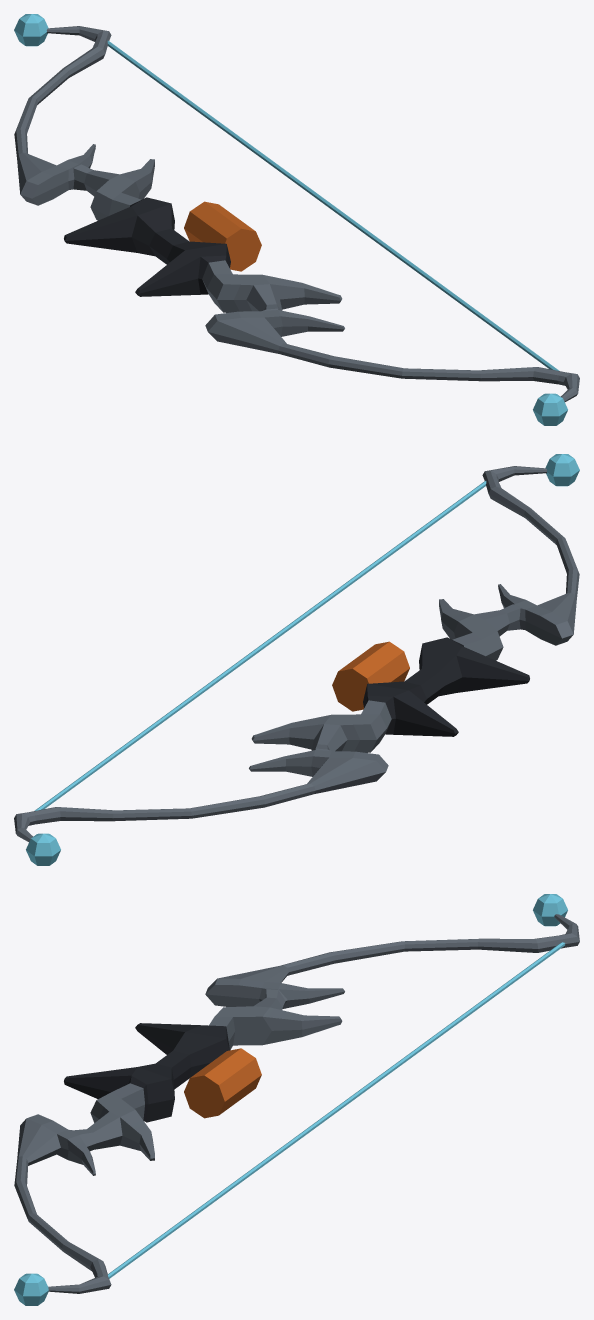
The model's file is energy-bow.glb.
3 views of the same model, one above another, from view 1: azimuth 30°, elevation 25°; view 2: azimuth 150°, elevation 25°; view 3: azimuth 330°, elevation 25° (orthographic).
Parts seen in each view (by area): view 1: m; view 2: m; view 3: m.
Boxes of the visible parts, x1,y1,x2,y2 form: m: (14, 14, 579, 425); m: (14, 454, 579, 865); m: (14, 894, 579, 1305).
Size of the model in its own units: 0.1851 by 0.0309 by 0.7.
